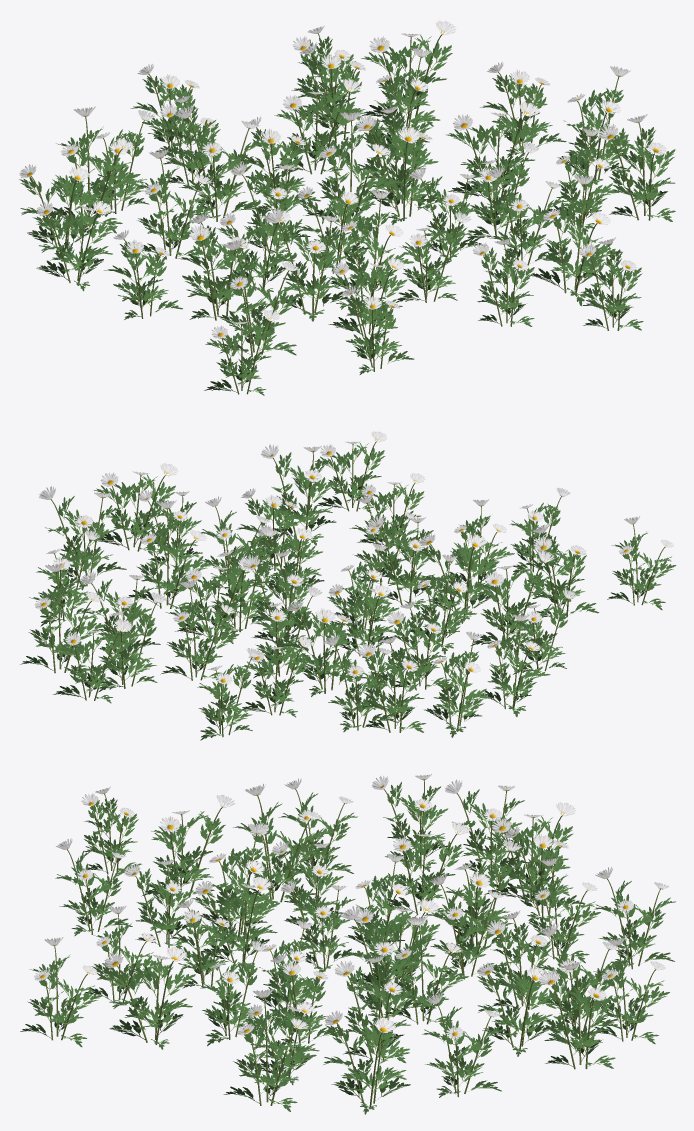
The picture shows the model from 3 angles, top to bottom: view 1: azimuth 30°, elevation 25°; view 2: azimuth 150°, elevation 25°; view 3: azimuth 270°, elevation 25°; orthographic projection. The views are drawn at different scales.
Parts seen in each view (by area): view 1: Tree_1, Tree_0, Tree_2; view 2: Tree_1, Tree_0, Tree_2; view 3: Tree_1, Tree_0, Tree_2.
Boxes of the visible parts, box(x1,y1,x2,y2) form: Tree_1: box(19, 35, 675, 395); Tree_0: box(19, 20, 666, 339); Tree_2: box(30, 33, 654, 394); Tree_1: box(20, 442, 676, 740); Tree_0: box(34, 431, 673, 684); Tree_2: box(45, 441, 665, 737); Tree_1: box(20, 782, 675, 1114); Tree_0: box(34, 774, 669, 1039); Tree_2: box(44, 779, 662, 1106).
Bounding box in the file's own units: 5.52 × 0.9945 × 5.49.
Materials: 3 (3 with a texture image).
